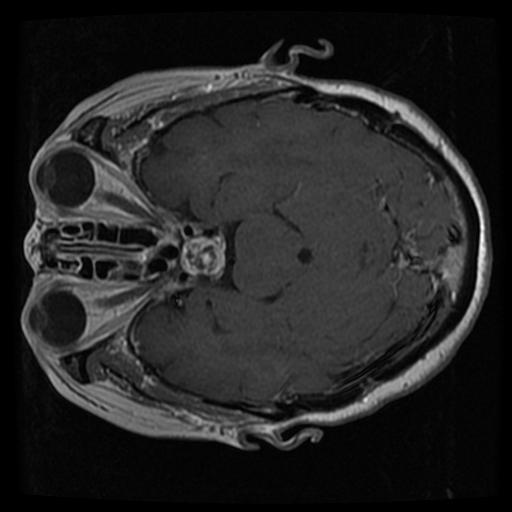pituitary tumour: (178, 237, 225, 278)
